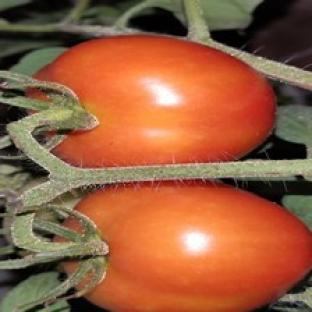Tomato: (35, 35, 275, 167), (76, 182, 311, 311)
